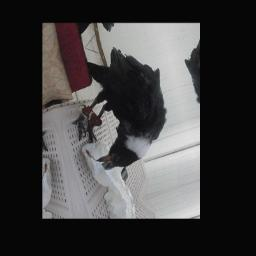Crow: (57, 34, 180, 182)
